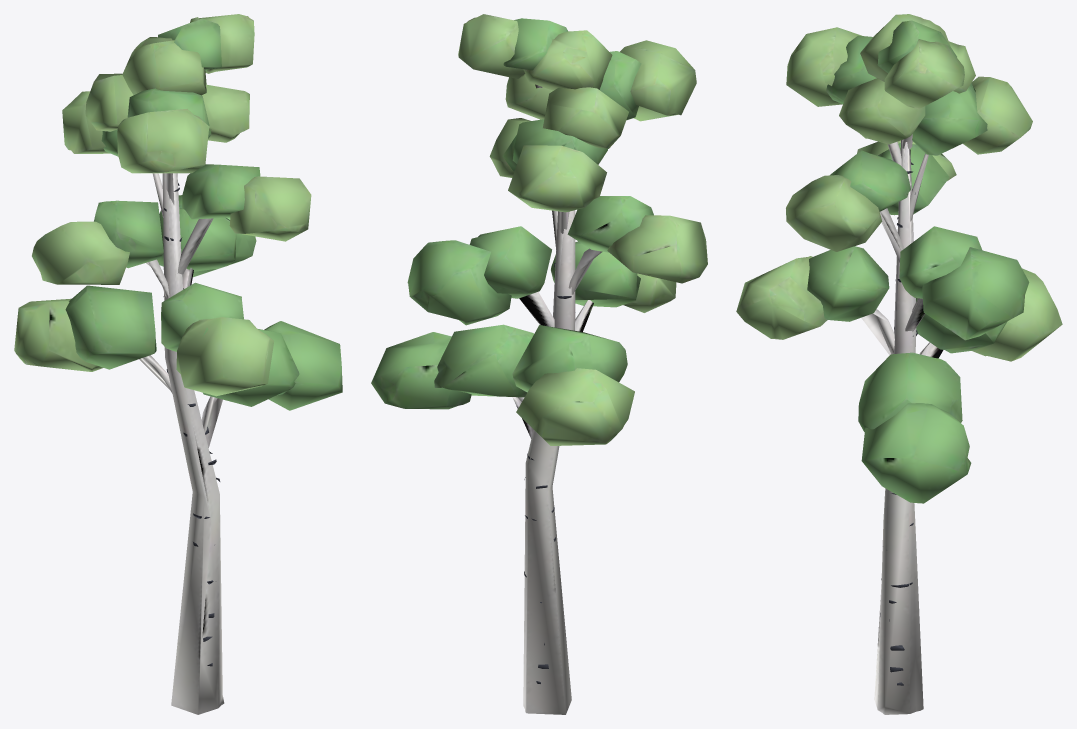
File: p_birch.glb
3 renders of one model, left to right at view 1: azimuth 30°, elevation 25°; view 2: azimuth 150°, elevation 25°; view 3: azimuth 270°, elevation 25°, orthographic. The views are drawn at different scales.
Parts seen in each view (by area): view 1: birch-tree_body; view 2: birch-tree_body; view 3: birch-tree_body.
Boxes of the visible parts, box(x1,y1,x2,y2) form: birch-tree_body: box(14, 14, 342, 714); birch-tree_body: box(371, 14, 707, 714); birch-tree_body: box(736, 14, 1062, 714).
Size of the model in its own units: 3.1 by 6.63 by 2.88.
2 materials, 1 textured.
